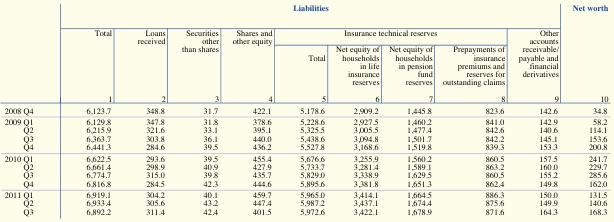table: (3, 3, 607, 215)
table column: (436, 3, 511, 215), (58, 3, 124, 215), (224, 3, 285, 215), (330, 3, 383, 215), (383, 3, 436, 215), (511, 3, 564, 215), (172, 3, 224, 215), (124, 3, 172, 215), (285, 3, 330, 215), (564, 3, 607, 215), (21, 3, 58, 215), (3, 3, 21, 215)
table column header: (3, 3, 607, 104)
table row: (3, 40, 607, 104), (3, 20, 607, 40), (3, 3, 607, 20), (3, 104, 607, 116), (3, 116, 607, 126), (3, 142, 607, 152), (3, 152, 607, 162), (3, 179, 607, 189), (3, 189, 607, 199), (3, 162, 607, 171), (3, 126, 607, 134), (3, 134, 607, 142), (3, 171, 607, 179), (3, 199, 607, 207), (3, 207, 607, 215)
table spanning cell: (58, 3, 564, 20), (58, 20, 124, 104), (224, 20, 285, 104), (285, 20, 511, 40), (511, 20, 564, 104), (172, 20, 224, 104), (564, 3, 607, 104), (124, 20, 172, 104), (3, 152, 21, 189), (3, 116, 21, 152), (3, 189, 21, 215)
